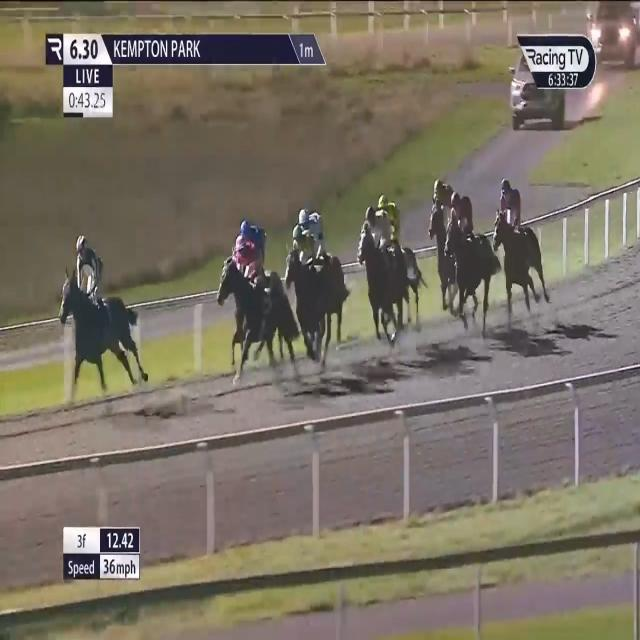horses-racing: (59, 234, 148, 376), (216, 238, 284, 372), (358, 205, 415, 342), (282, 221, 336, 360), (498, 179, 546, 320), (444, 188, 496, 316), (378, 194, 428, 319), (297, 204, 348, 326), (427, 171, 458, 311), (240, 212, 270, 270)
